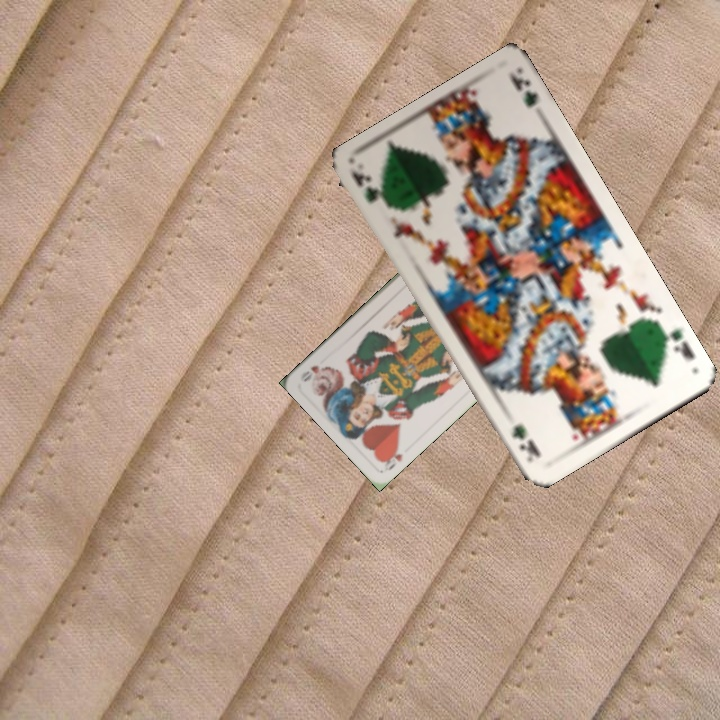GK: (347, 166, 393, 212), (654, 320, 697, 363)
HO: (377, 441, 405, 473)
